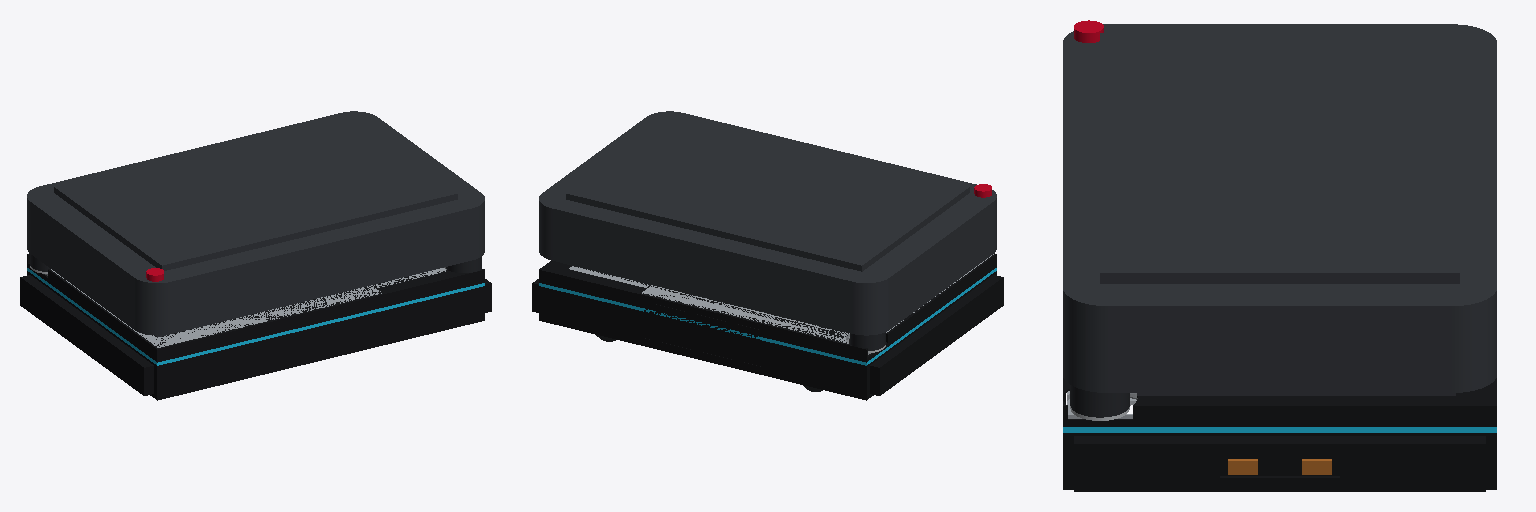
robot.urdf — amr:
<?xml version="1.0"?>
<!--
  The swerve AMR of the AMR_FMS project (same author as this sample, Apache-2.0): a 4-wheel
  swerve base with a passive front rocker, a scissor lift and two 2D lidars (LDROBOT M10P
  class). From AMR_FMS's amr_description/urdf/amr_sim.urdf (made there by
  scripts/gen_sim_urdf.py from the CAD export), with its meshes in meshes/. Changes for
  Lagrange: mesh paths relative to this file, the Gazebo system plugins removed (the built-in
  swerve controller drives the base), and a ros2_control block that names the steer and wheel
  joints as driven. The lift stays collapsed: its joints are not driven yet.
-->
<robot name="amr">
  <link name="base_footprint">
  </link>
  <link name="base_link">
    <visual>
      <origin xyz="0.00000 0.00000 0.00000" rpy="0.00000 0.00000 0.00000" />
      <geometry>
        <mesh filename="meshes/chassis_frame.dae" />
      </geometry>
    </visual>
    <visual>
      <origin xyz="0.00000 0.00000 0.00000" rpy="0.00000 0.00000 0.00000" />
      <geometry>
        <mesh filename="meshes/lift_base_frame.dae" />
      </geometry>
    </visual>
    <visual>
      <origin xyz="0.00000 0.00000 0.00000" rpy="0.00000 0.00000 0.00000" />
      <geometry>
        <mesh filename="meshes/lift_drive.dae" />
      </geometry>
    </visual>
    <visual>
      <origin xyz="0.00000 0.00000 0.00000" rpy="0.00000 0.00000 0.00000" />
      <geometry>
        <mesh filename="meshes/battery.dae" />
      </geometry>
    </visual>
    <visual>
      <origin xyz="0.00000 0.00000 0.00000" rpy="0.00000 0.00000 0.00000" />
      <geometry>
        <mesh filename="meshes/power_distribution.dae" />
      </geometry>
    </visual>
    <visual>
      <origin xyz="0.00000 0.00000 0.00000" rpy="0.00000 0.00000 0.00000" />
      <geometry>
        <mesh filename="meshes/charging_contacts.dae" />
      </geometry>
    </visual>
    <visual>
      <origin xyz="0.00000 0.00000 0.00000" rpy="0.00000 0.00000 0.00000" />
      <geometry>
        <mesh filename="meshes/shell.dae" />
      </geometry>
    </visual>
    <visual>
      <origin xyz="0.00000 0.00000 0.00000" rpy="0.00000 0.00000 0.00000" />
      <geometry>
        <mesh filename="meshes/skirt.dae" />
      </geometry>
    </visual>
    <visual>
      <origin xyz="0.00000 0.00000 0.00000" rpy="0.00000 0.00000 0.00000" />
      <geometry>
        <mesh filename="meshes/bumper_front.dae" />
      </geometry>
    </visual>
    <visual>
      <origin xyz="0.00000 0.00000 0.00000" rpy="0.00000 0.00000 0.00000" />
      <geometry>
        <mesh filename="meshes/bumper_rear.dae" />
      </geometry>
    </visual>
    <visual>
      <origin xyz="0.00000 0.00000 0.00000" rpy="0.00000 0.00000 0.00000" />
      <geometry>
        <mesh filename="meshes/light_strip.dae" />
      </geometry>
    </visual>
    <visual>
      <origin xyz="0.00000 0.00000 0.00000" rpy="0.00000 0.00000 0.00000" />
      <geometry>
        <mesh filename="meshes/service_panel.dae" />
      </geometry>
    </visual>
    <visual>
      <origin xyz="0.00000 0.00000 0.00000" rpy="0.00000 0.00000 0.00000" />
      <geometry>
        <mesh filename="meshes/e_stop.dae" />
      </geometry>
    </visual>
    <visual>
      <origin xyz="-0.26500 0.15500 0.10700" rpy="0.00000 0.00000 3.14159" />
      <geometry>
        <mesh filename="meshes/swerve_module_fixed.dae" />
      </geometry>
    </visual>
    <visual>
      <origin xyz="-0.26500 -0.15500 0.10700" rpy="0.00000 0.00000 3.14159" />
      <geometry>
        <mesh filename="meshes/swerve_module_fixed.dae" />
      </geometry>
    </visual>
    <inertial>
      <origin xyz="-0.03 0 0.12" rpy="0 0 0" />
      <mass value="47.31" />
      <inertia ixx="1.62" ixy="0" ixz="0" iyy="3.41" iyz="0" izz="4.45" />
    </inertial>
    <collision name="body">
      <origin xyz="0 0 0.145" rpy="0 0 0" />
      <geometry>
        <box size="0.89 0.58 0.27" />
      </geometry>
    </collision>
  </link>
  <link name="rocker_link">
    <visual>
      <origin xyz="0.00000 0.00000 0.00000" rpy="0.00000 0.00000 0.00000" />
      <geometry>
        <mesh filename="meshes/front_rocker.dae" />
      </geometry>
    </visual>
    <visual>
      <origin xyz="0.00000 0.15500 0.00700" rpy="0.00000 0.00000 0.00000" />
      <geometry>
        <mesh filename="meshes/swerve_module_fixed.dae" />
      </geometry>
    </visual>
    <visual>
      <origin xyz="0.00000 -0.15500 0.00700" rpy="0.00000 0.00000 0.00000" />
      <geometry>
        <mesh filename="meshes/swerve_module_fixed.dae" />
      </geometry>
    </visual>
    <inertial>
      <origin xyz="0 0 0.03" rpy="0 0 0" />
      <mass value="8.2" />
      <inertia ixx="0.145" ixy="0" ixz="0" iyy="0.034" iyz="0" izz="0.166" />
    </inertial>
  </link>
  <link name="swerve_fl_steer_link">
    <visual>
      <origin xyz="0.00000 0.00000 0.00000" rpy="0.00000 0.00000 0.00000" />
      <geometry>
        <mesh filename="meshes/swerve_steer.dae" />
      </geometry>
    </visual>
    <inertial>
      <origin xyz="0 0.04 -0.08" rpy="0 0 0" />
      <mass value="3.3" />
      <inertia ixx="0.0081" ixy="0" ixz="0" iyy="0.0061" iyz="0" izz="0.0087" />
    </inertial>
  </link>
  <link name="swerve_fr_steer_link">
    <visual>
      <origin xyz="0.00000 0.00000 0.00000" rpy="0.00000 0.00000 0.00000" />
      <geometry>
        <mesh filename="meshes/swerve_steer.dae" />
      </geometry>
    </visual>
    <inertial>
      <origin xyz="0 0.04 -0.08" rpy="0 0 0" />
      <mass value="3.3" />
      <inertia ixx="0.0081" ixy="0" ixz="0" iyy="0.0061" iyz="0" izz="0.0087" />
    </inertial>
  </link>
  <link name="swerve_rl_steer_link">
    <visual>
      <origin xyz="0.00000 0.00000 0.00000" rpy="0.00000 0.00000 0.00000" />
      <geometry>
        <mesh filename="meshes/swerve_steer.dae" />
      </geometry>
    </visual>
    <inertial>
      <origin xyz="0 0.04 -0.08" rpy="0 0 0" />
      <mass value="3.3" />
      <inertia ixx="0.0081" ixy="0" ixz="0" iyy="0.0061" iyz="0" izz="0.0087" />
    </inertial>
  </link>
  <link name="swerve_rr_steer_link">
    <visual>
      <origin xyz="0.00000 0.00000 0.00000" rpy="0.00000 0.00000 0.00000" />
      <geometry>
        <mesh filename="meshes/swerve_steer.dae" />
      </geometry>
    </visual>
    <inertial>
      <origin xyz="0 0.04 -0.08" rpy="0 0 0" />
      <mass value="3.3" />
      <inertia ixx="0.0081" ixy="0" ixz="0" iyy="0.0061" iyz="0" izz="0.0087" />
    </inertial>
  </link>
  <link name="swerve_fl_wheel_link">
    <visual>
      <origin xyz="0.00000 0.00000 0.00000" rpy="0.00000 0.00000 0.00000" />
      <geometry>
        <mesh filename="meshes/swerve_wheel.dae" />
      </geometry>
    </visual>
    <inertial>
      <origin xyz="0 0 0" rpy="0 0 0" />
      <mass value="1.3" />
      <inertia ixx="0.00144" ixy="0" ixz="0" iyy="0.00254" iyz="0" izz="0.00144" />
    </inertial>
    <collision name="tyre">
      <origin xyz="0 0 0" rpy="1.5708 0 0" />
      <geometry>
        <cylinder radius="0.0625" length="0.04" />
      </geometry>
    </collision>
  </link>
  <link name="swerve_fr_wheel_link">
    <visual>
      <origin xyz="0.00000 0.00000 0.00000" rpy="0.00000 0.00000 0.00000" />
      <geometry>
        <mesh filename="meshes/swerve_wheel.dae" />
      </geometry>
    </visual>
    <inertial>
      <origin xyz="0 0 0" rpy="0 0 0" />
      <mass value="1.3" />
      <inertia ixx="0.00144" ixy="0" ixz="0" iyy="0.00254" iyz="0" izz="0.00144" />
    </inertial>
    <collision name="tyre">
      <origin xyz="0 0 0" rpy="1.5708 0 0" />
      <geometry>
        <cylinder radius="0.0625" length="0.04" />
      </geometry>
    </collision>
  </link>
  <link name="swerve_rl_wheel_link">
    <visual>
      <origin xyz="0.00000 0.00000 0.00000" rpy="0.00000 0.00000 0.00000" />
      <geometry>
        <mesh filename="meshes/swerve_wheel.dae" />
      </geometry>
    </visual>
    <inertial>
      <origin xyz="0 0 0" rpy="0 0 0" />
      <mass value="1.3" />
      <inertia ixx="0.00144" ixy="0" ixz="0" iyy="0.00254" iyz="0" izz="0.00144" />
    </inertial>
    <collision name="tyre">
      <origin xyz="0 0 0" rpy="1.5708 0 0" />
      <geometry>
        <cylinder radius="0.0625" length="0.04" />
      </geometry>
    </collision>
  </link>
  <link name="swerve_rr_wheel_link">
    <visual>
      <origin xyz="0.00000 0.00000 0.00000" rpy="0.00000 0.00000 0.00000" />
      <geometry>
        <mesh filename="meshes/swerve_wheel.dae" />
      </geometry>
    </visual>
    <inertial>
      <origin xyz="0 0 0" rpy="0 0 0" />
      <mass value="1.3" />
      <inertia ixx="0.00144" ixy="0" ixz="0" iyy="0.00254" iyz="0" izz="0.00144" />
    </inertial>
    <collision name="tyre">
      <origin xyz="0 0 0" rpy="1.5708 0 0" />
      <geometry>
        <cylinder radius="0.0625" length="0.04" />
      </geometry>
    </collision>
  </link>
  <link name="laser_front_right">
    <visual>
      <origin xyz="0.00000 0.00000 0.00000" rpy="0.00000 0.00000 0.00000" />
      <geometry>
        <mesh filename="meshes/lidar_m10p.dae" />
      </geometry>
    </visual>
    <visual>
      <origin xyz="0.00000 0.00000 0.00000" rpy="0.00000 0.00000 0.00000" />
      <geometry>
        <mesh filename="meshes/lidar_bracket.dae" />
      </geometry>
    </visual>
  </link>
  <link name="laser_rear_left">
    <visual>
      <origin xyz="0.00000 0.00000 0.00000" rpy="0.00000 0.00000 0.00000" />
      <geometry>
        <mesh filename="meshes/lidar_m10p.dae" />
      </geometry>
    </visual>
    <visual>
      <origin xyz="0.00000 0.00000 0.00000" rpy="0.00000 0.00000 0.00000" />
      <geometry>
        <mesh filename="meshes/lidar_bracket.dae" />
      </geometry>
    </visual>
  </link>
  <link name="lift_top_platform">
    <visual>
      <origin xyz="0.00000 0.00000 0.00000" rpy="0.00000 0.00000 0.00000" />
      <geometry>
        <mesh filename="meshes/top_platform.dae" />
      </geometry>
    </visual>
    <inertial>
      <origin xyz="0 0 -0.0075" rpy="0 0 0" />
      <mass value="15.6" />
      <inertia ixx="0.3" ixy="0" ixz="0" iyy="0.75" iyz="0" izz="1.05" />
    </inertial>
    <collision name="platform">
      <origin xyz="0 0 -0.0075" rpy="0 0 0" />
      <geometry>
        <box size="0.76 0.48 0.015" />
      </geometry>
    </collision>
  </link>
  <link name="scissor_inner_link">
    <visual>
      <origin xyz="0.00000 0.00000 0.00000" rpy="0.00000 0.00000 0.00000" />
      <geometry>
        <mesh filename="meshes/scissor_arm_inner.dae" />
      </geometry>
    </visual>
    <inertial>
      <origin xyz="0.195 0 0" rpy="0 0 0" />
      <mass value="5.41" />
      <inertia ixx="0.005" ixy="0" ixz="0" iyy="0.0685" iyz="0" izz="0.0685" />
    </inertial>
  </link>
  <link name="lift_carriage_link">
    <visual>
      <origin xyz="0.00000 0.00000 0.00000" rpy="0.00000 0.00000 0.00000" />
      <geometry>
        <mesh filename="meshes/lift_carriage.dae" />
      </geometry>
    </visual>
    <inertial>
      <origin xyz="0 0 0" rpy="0 0 0" />
      <mass value="1.4" />
      <inertia ixx="0.002" ixy="0" ixz="0" iyy="0.002" iyz="0" izz="0.002" />
    </inertial>
  </link>
  <link name="scissor_outer_link">
    <visual>
      <origin xyz="0.00000 0.00000 0.00000" rpy="0.00000 0.00000 0.00000" />
      <geometry>
        <mesh filename="meshes/scissor_arm_outer.dae" />
      </geometry>
    </visual>
    <inertial>
      <origin xyz="-0.195 0 0" rpy="0 0 0" />
      <mass value="4.13" />
      <inertia ixx="0.004" ixy="0" ixz="0" iyy="0.0523" iyz="0" izz="0.0523" />
    </inertial>
  </link>
  <joint name="base_footprint_joint" type="fixed">
    <parent link="base_footprint" />
    <child link="base_link" />
    <origin xyz="0.00000 0.00000 0.05000" rpy="0.00000 0.00000 0.00000" />
  </joint>
  <joint name="rocker_joint" type="revolute">
    <parent link="base_link" />
    <child link="rocker_link" />
    <origin xyz="0.26500 0.00000 0.10000" rpy="0.00000 0.00000 0.00000" />
    <axis xyz="1 0 0" />
    <limit lower="-0.02618" upper="0.02618" effort="100" velocity="1" />
    <dynamics damping="5.0" friction="0.0" />
  </joint>
  <joint name="swerve_fl_steer_joint" type="continuous">
    <parent link="rocker_link" />
    <child link="swerve_fl_steer_link" />
    <origin xyz="0.00000 0.15500 0.00700" rpy="0.00000 0.00000 0.00000" />
    <axis xyz="0 0 1" />
    <limit effort="20.0" velocity="6.0" />
    <dynamics damping="0.2" friction="0.0" />
  </joint>
  <joint name="swerve_fr_steer_joint" type="continuous">
    <parent link="rocker_link" />
    <child link="swerve_fr_steer_link" />
    <origin xyz="0.00000 -0.15500 0.00700" rpy="0.00000 0.00000 0.00000" />
    <axis xyz="0 0 1" />
    <limit effort="20.0" velocity="6.0" />
    <dynamics damping="0.2" friction="0.0" />
  </joint>
  <joint name="swerve_rl_steer_joint" type="continuous">
    <parent link="base_link" />
    <child link="swerve_rl_steer_link" />
    <origin xyz="-0.26500 0.15500 0.10700" rpy="0.00000 0.00000 0.00000" />
    <axis xyz="0 0 1" />
    <limit effort="20.0" velocity="6.0" />
    <dynamics damping="0.2" friction="0.0" />
  </joint>
  <joint name="swerve_rr_steer_joint" type="continuous">
    <parent link="base_link" />
    <child link="swerve_rr_steer_link" />
    <origin xyz="-0.26500 -0.15500 0.10700" rpy="0.00000 0.00000 0.00000" />
    <axis xyz="0 0 1" />
    <limit effort="20.0" velocity="6.0" />
    <dynamics damping="0.2" friction="0.0" />
  </joint>
  <joint name="swerve_fl_wheel_joint" type="continuous">
    <parent link="swerve_fl_steer_link" />
    <child link="swerve_fl_wheel_link" />
    <origin xyz="0.00000 0.00000 -0.09450" rpy="0.00000 0.00000 0.00000" />
    <axis xyz="0 1 0" />
    <limit effort="8.0" velocity="24.0" />
    <dynamics damping="0.01" friction="0.0" />
  </joint>
  <joint name="swerve_fr_wheel_joint" type="continuous">
    <parent link="swerve_fr_steer_link" />
    <child link="swerve_fr_wheel_link" />
    <origin xyz="0.00000 0.00000 -0.09450" rpy="0.00000 0.00000 0.00000" />
    <axis xyz="0 1 0" />
    <limit effort="8.0" velocity="24.0" />
    <dynamics damping="0.01" friction="0.0" />
  </joint>
  <joint name="swerve_rl_wheel_joint" type="continuous">
    <parent link="swerve_rl_steer_link" />
    <child link="swerve_rl_wheel_link" />
    <origin xyz="0.00000 0.00000 -0.09450" rpy="0.00000 0.00000 0.00000" />
    <axis xyz="0 1 0" />
    <limit effort="8.0" velocity="24.0" />
    <dynamics damping="0.01" friction="0.0" />
  </joint>
  <joint name="swerve_rr_wheel_joint" type="continuous">
    <parent link="swerve_rr_steer_link" />
    <child link="swerve_rr_wheel_link" />
    <origin xyz="0.00000 0.00000 -0.09450" rpy="0.00000 0.00000 0.00000" />
    <axis xyz="0 1 0" />
    <limit effort="8.0" velocity="24.0" />
    <dynamics damping="0.01" friction="0.0" />
  </joint>
  <joint name="laser_front_right_joint" type="fixed">
    <parent link="base_link" />
    <child link="laser_front_right" />
    <origin xyz="0.39500 -0.24000 0.14000" rpy="0.00000 0.00000 -0.78540" />
  </joint>
  <joint name="laser_rear_left_joint" type="fixed">
    <parent link="base_link" />
    <child link="laser_rear_left" />
    <origin xyz="-0.39500 0.24000 0.14000" rpy="0.00000 0.00000 2.35619" />
  </joint>
  <joint name="lift_joint" type="prismatic">
    <parent link="base_link" />
    <child link="lift_top_platform" />
    <origin xyz="0.00000 0.00000 0.30094" rpy="0.00000 0.00000 0.00000" />
    <axis xyz="0 0 1" />
    <limit lower="0" upper="0.1500" effort="3000" velocity="0.05" />
    <dynamics damping="50.0" friction="0.0" />
  </joint>
  <joint name="scissor_inner_joint" type="revolute">
    <parent link="base_link" />
    <child link="scissor_inner_link" />
    <origin xyz="-0.18836 0.00000 0.16500" rpy="0 -0.26180 0" />
    <axis xyz="0 -1 0" />
    <limit lower="0.0" upper="0.43718" effort="300" velocity="1.0" />
    <dynamics damping="1.0" friction="0.0" />
  </joint>
  <joint name="lift_carriage_joint" type="prismatic">
    <parent link="base_link" />
    <child link="lift_carriage_link" />
    <origin xyz="0.18835 0.00000 0.16500" rpy="0.00000 0.00000 0.00000" />
    <axis xyz="1 0 0" />
    <limit lower="-0.07816" upper="0.0" effort="500" velocity="0.2" />
    <dynamics damping="1.0" friction="0.0" />
  </joint>
  <joint name="scissor_outer_joint" type="revolute">
    <parent link="lift_carriage_link" />
    <child link="scissor_outer_link" />
    <origin xyz="0.00000 0.00000 0.00000" rpy="0 0.26180 0" />
    <axis xyz="0 1 0" />
    <limit lower="0.0" upper="0.43718" effort="300" velocity="1.0" />
    <dynamics damping="1.0" friction="0.0" />
  </joint>
  <gazebo reference="laser_front_right">
    <sensor name="scan_front_right" type="gpu_lidar">
      <topic>scan_front_right</topic>
      <frame_id>laser_front_right</frame_id>
      <update_rate>10</update_rate>
      <always_on>1</always_on>
      <visualize>false</visualize>
      <lidar>
        <scan>
          <horizontal>
            <samples>1228</samples>
            <resolution>1</resolution>
            <min_angle>-2.35619</min_angle>
            <max_angle>2.35619</max_angle>
          </horizontal>
        </scan>
        <range>
          <min>0.1</min>
          <max>10.0</max>
          <resolution>0.01</resolution>
        </range>
      </lidar>
    </sensor>
  </gazebo>
  <gazebo reference="laser_rear_left">
    <sensor name="scan_rear_left" type="gpu_lidar">
      <topic>scan_rear_left</topic>
      <frame_id>laser_rear_left</frame_id>
      <update_rate>10</update_rate>
      <always_on>1</always_on>
      <visualize>false</visualize>
      <lidar>
        <scan>
          <horizontal>
            <samples>1228</samples>
            <resolution>1</resolution>
            <min_angle>-2.35619</min_angle>
            <max_angle>2.35619</max_angle>
          </horizontal>
        </scan>
        <range>
          <min>0.1</min>
          <max>10.0</max>
          <resolution>0.01</resolution>
        </range>
      </lidar>
    </sensor>
  </gazebo>
  <gazebo reference="base_link">
    <sensor name="imu" type="imu">
      <topic>imu</topic>
      <frame_id>base_link</frame_id>
      <update_rate>100</update_rate>
      <always_on>1</always_on>
    </sensor>
  </gazebo>
  <!-- Which joints take commands: the swerve controller steers and drives the four modules. -->
  <ros2_control name="LagrangeSystem" type="system">
    <hardware><plugin>lagrange_ros2_control/LagrangeSystem</plugin></hardware>
    <joint name="swerve_fl_steer_joint">
      <command_interface name="effort"/>
      <state_interface name="position"/>
      <state_interface name="velocity"/>
    </joint>
    <joint name="swerve_fr_steer_joint">
      <command_interface name="effort"/>
      <state_interface name="position"/>
      <state_interface name="velocity"/>
    </joint>
    <joint name="swerve_rl_steer_joint">
      <command_interface name="effort"/>
      <state_interface name="position"/>
      <state_interface name="velocity"/>
    </joint>
    <joint name="swerve_rr_steer_joint">
      <command_interface name="effort"/>
      <state_interface name="position"/>
      <state_interface name="velocity"/>
    </joint>
    <joint name="swerve_fl_wheel_joint">
      <command_interface name="effort"/>
      <state_interface name="position"/>
      <state_interface name="velocity"/>
    </joint>
    <joint name="swerve_fr_wheel_joint">
      <command_interface name="effort"/>
      <state_interface name="position"/>
      <state_interface name="velocity"/>
    </joint>
    <joint name="swerve_rl_wheel_joint">
      <command_interface name="effort"/>
      <state_interface name="position"/>
      <state_interface name="velocity"/>
    </joint>
    <joint name="swerve_rr_wheel_joint">
      <command_interface name="effort"/>
      <state_interface name="position"/>
      <state_interface name="velocity"/>
    </joint>
  </ros2_control>
</robot>

--- What the picture shows (computed from the rendered views, not written in the file) ---
The picture shows the robot from 3 angles, left to right: view 1: azimuth 30°, elevation 25°; view 2: azimuth 150°, elevation 25°; view 3: azimuth 270°, elevation 25°; orthographic projection.
Model amr with 17 links and 16 joints (3 revolute, 8 continuous, 2 prismatic, 3 fixed), rooted at base_footprint, posed every joint at zero.
Visible links, largest first — view 1: base_link, lift_top_platform; view 2: base_link, lift_top_platform, laser_rear_left; view 3: base_link, lift_top_platform, laser_front_right.
Boxes of the visible links, box(x1,y1,x2,y2) form: base_link: box(20, 111, 491, 400); lift_top_platform: box(54, 114, 457, 270); base_link: box(532, 111, 1003, 400); lift_top_platform: box(566, 114, 969, 271); laser_rear_left: box(850, 332, 885, 352); base_link: box(1063, 20, 1496, 491); lift_top_platform: box(1100, 33, 1459, 283); laser_front_right: box(1070, 385, 1129, 420).
Bounding box of the posed robot: 0.89 × 0.58 × 0.3509 m (x, y, z).
34 mesh visuals loaded from 23 distinct referenced files (23 Collada DAE).
